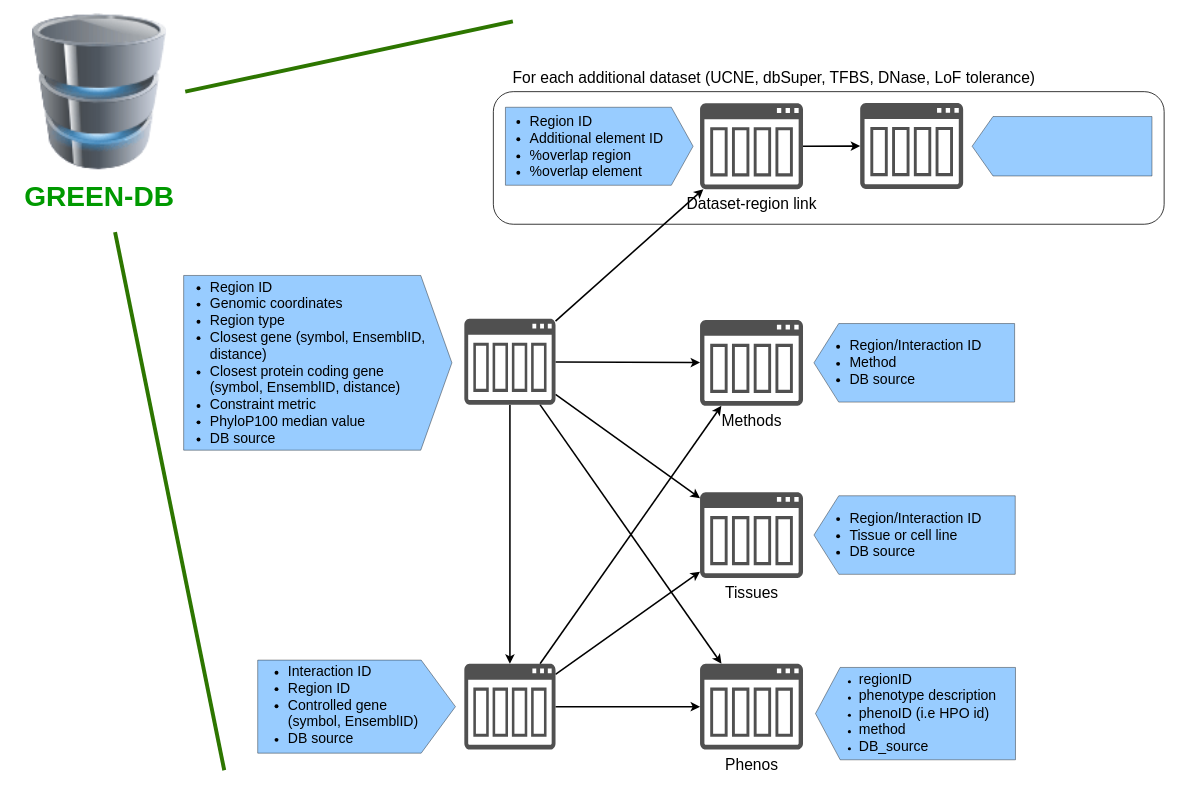
Some shapes in this 1178 by 787 pixel diagram are drawn without their labels. The shapes that lost their labels are listed below. From the top down, each one's centre as x and y in pixels, then its label:
At [911,146]: "Additional dataset".
At [1061,146]: "Element ID Genomic coordinates".
At [509,361]: "Regions".
At [509,706]: "Genes".
